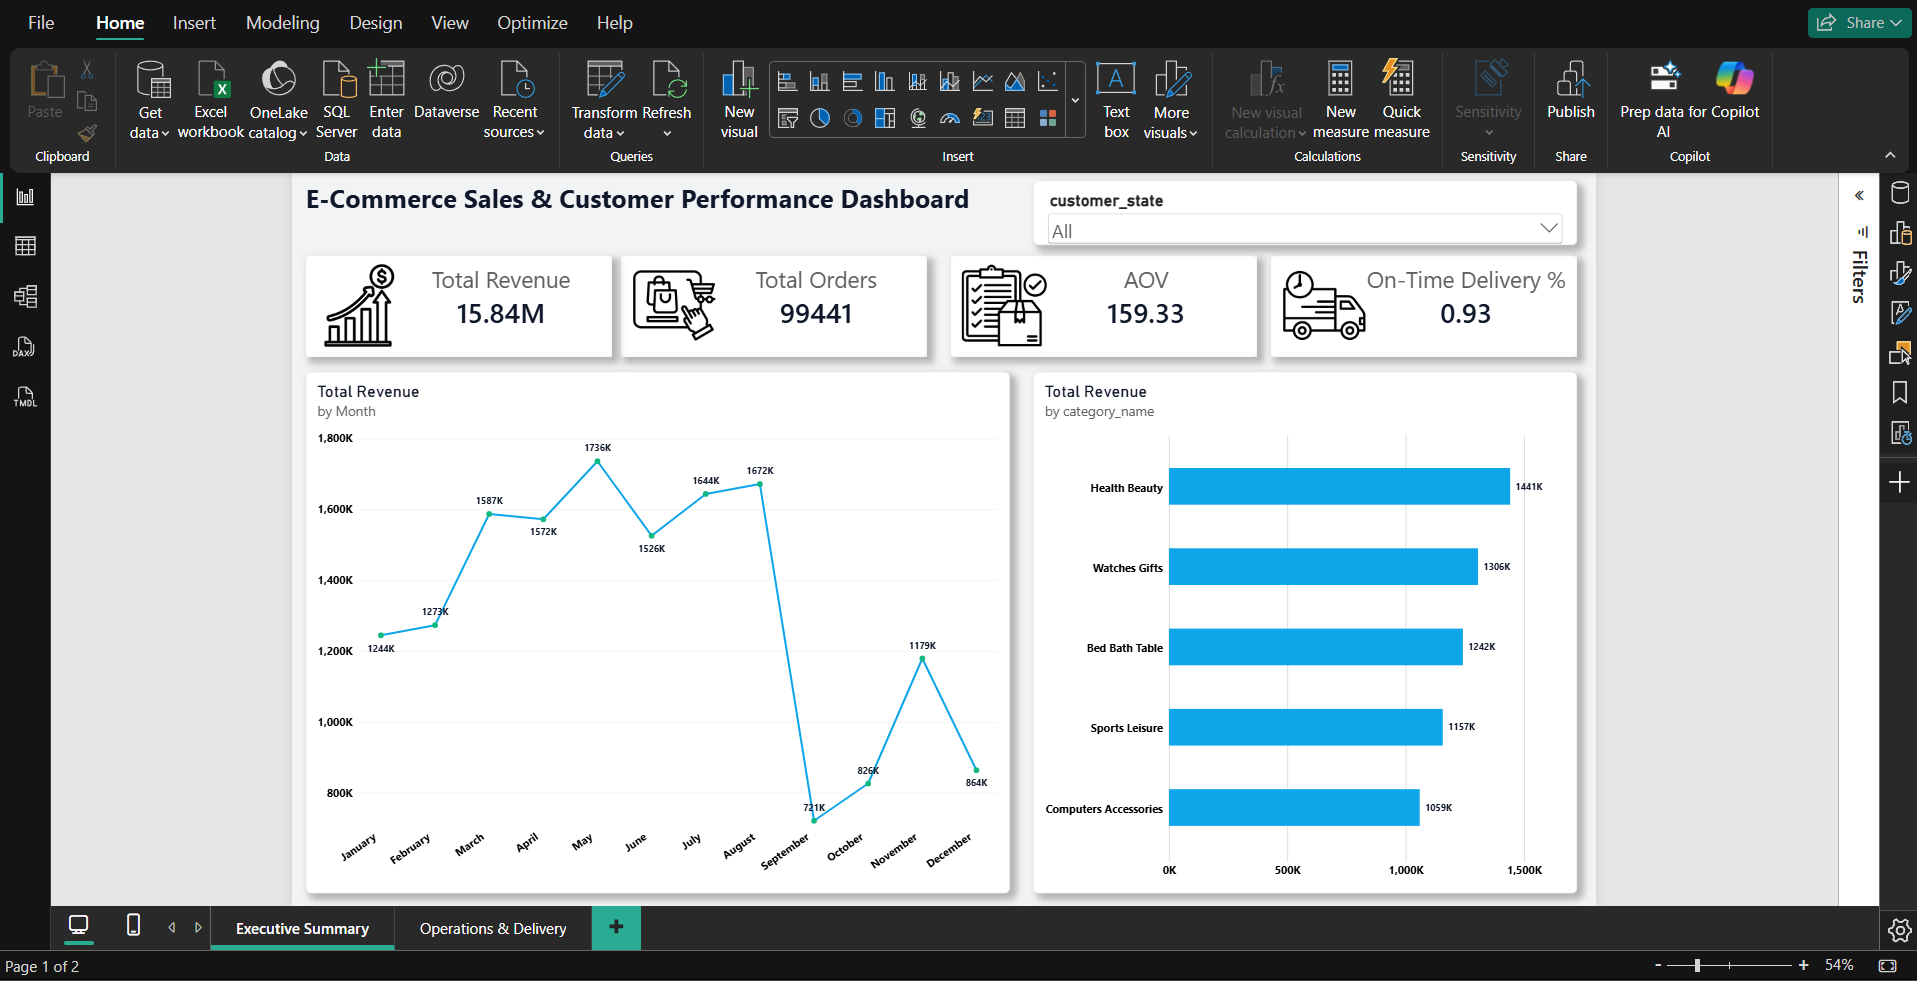

The page's visual inventory and layout, read from the dashboard file:
{"tool":"powerbi","page":{"name":"Executive Summary","canvas":[1920,1080],"ordinal":0},"visuals":[{"type":"cardVisual","fields":{"Data":["customers.Total Orders"]},"box":[484.8,121.2,450.9,149.1],"z":0},{"type":"cardVisual","fields":{"Data":["customers.Total Revenue"]},"box":[19.5,121.2,450.9,149.1],"z":1000},{"type":"cardVisual","fields":{"Data":["customers.AOV"]},"box":[969.5,121.2,450.9,149.1],"z":2000},{"type":"cardVisual","fields":{"Data":["customers.On-Time Delivery %"]},"box":[1441.3,121.2,450.9,149.1],"z":3000},{"type":"lineChart","fields":{"Category":["orders.order_purchase_timestamp.Variation.Date Hierarchy.Year","orders.order_purchase_timestamp.Variation.Date Hierarchy.Quarter","orders.order_purchase_timestamp.Variation.Date Hierarchy.Month","orders.order_purchase_timestamp.Variation.Date Hierarchy.Day"],"Y":["customers.Total Revenue"]},"box":[19.5,292.2,1036.6,768.3],"z":4000},{"type":"clusteredBarChart","fields":{"Category":["products.category_name"],"Y":["customers.Total Revenue"]},"box":[1090.7,292.2,800.7,768.3],"z":5000},{"type":"slicer","fields":{"Values":["customers.customer_state"]},"box":[1090.7,10.8,800.7,95.2],"z":6000},{"type":"textbox","box":[19.5,10.8,1175.1,95.2],"z":7000}]}

Visuals, with their boxes on the page's 1920x1080 design canvas (x1, y1, x2, y2). These are canvas units, not pixel positions in the 1917x981 screenshot, which may show the page scaled, cropped or inside an application window:
cardVisual - customers.Total Orders: 485 121 936 270
cardVisual - customers.Total Revenue: 20 121 470 270
cardVisual - customers.AOV: 970 121 1420 270
cardVisual - customers.On-Time Delivery %: 1441 121 1892 270
lineChart - orders.order_purchase_timestamp.Variation.Date Hierarchy.Year x orders.order_purchase_timestamp.Variation.Date Hierarchy.Quarter: 20 292 1056 1060
clusteredBarChart - products.category_name x customers.Total Revenue: 1091 292 1891 1060
slicer - customers.customer_state: 1091 11 1891 106
textbox: 20 11 1195 106
